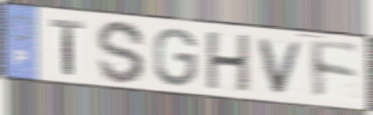F: (307, 37, 363, 102)
G: (152, 26, 200, 88)
H: (204, 30, 253, 95)
S: (95, 18, 147, 86)
T: (49, 17, 86, 77)
V: (256, 37, 308, 97)
